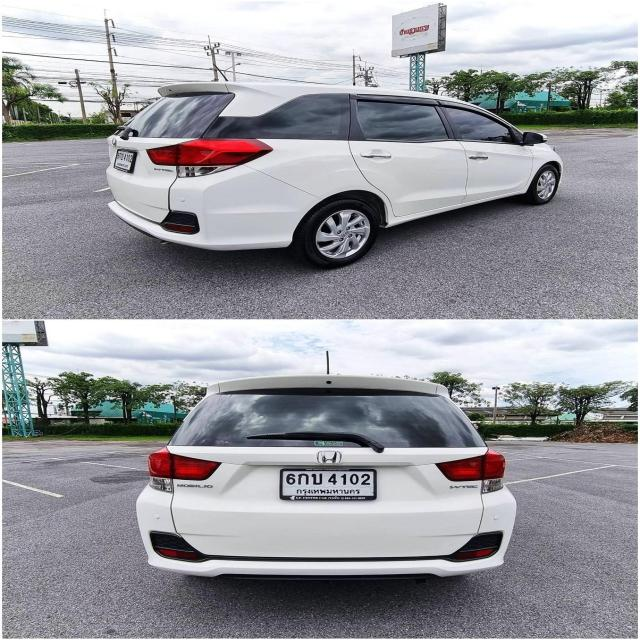license_plate: (279, 463, 381, 504), (111, 148, 136, 172)
